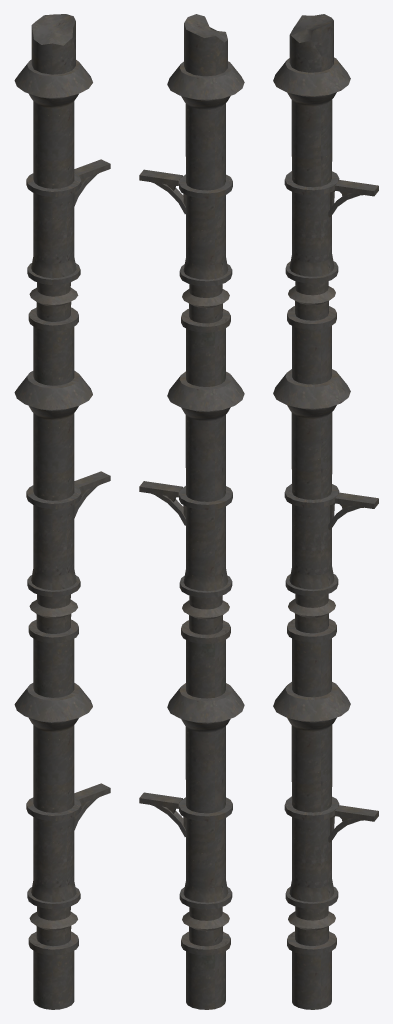
The model's file is SM_ZhuZi03.glb.
3 views of the same model, side by side, from view 1: azimuth 30°, elevation 25°; view 2: azimuth 150°, elevation 25°; view 3: azimuth 330°, elevation 25° (orthographic).
Visible parts, largest first — view 1: SM_ZhuZi03.001; view 2: SM_ZhuZi03.001; view 3: SM_ZhuZi03.001.
Boxes of the visible parts, left/top/right/bottom form: SM_ZhuZi03.001: left=14, top=14, right=110, bottom=1009; SM_ZhuZi03.001: left=139, top=14, right=244, bottom=1009; SM_ZhuZi03.001: left=273, top=14, right=378, bottom=1009.
Bounding box in the file's own units: 3290 × 33375 × 2349.
1 material, 1 textured.
